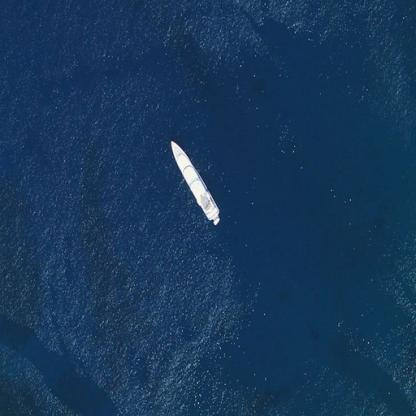ship: (158, 133, 231, 229)
